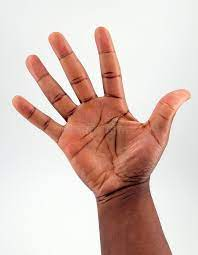palm: (11, 26, 192, 197)
